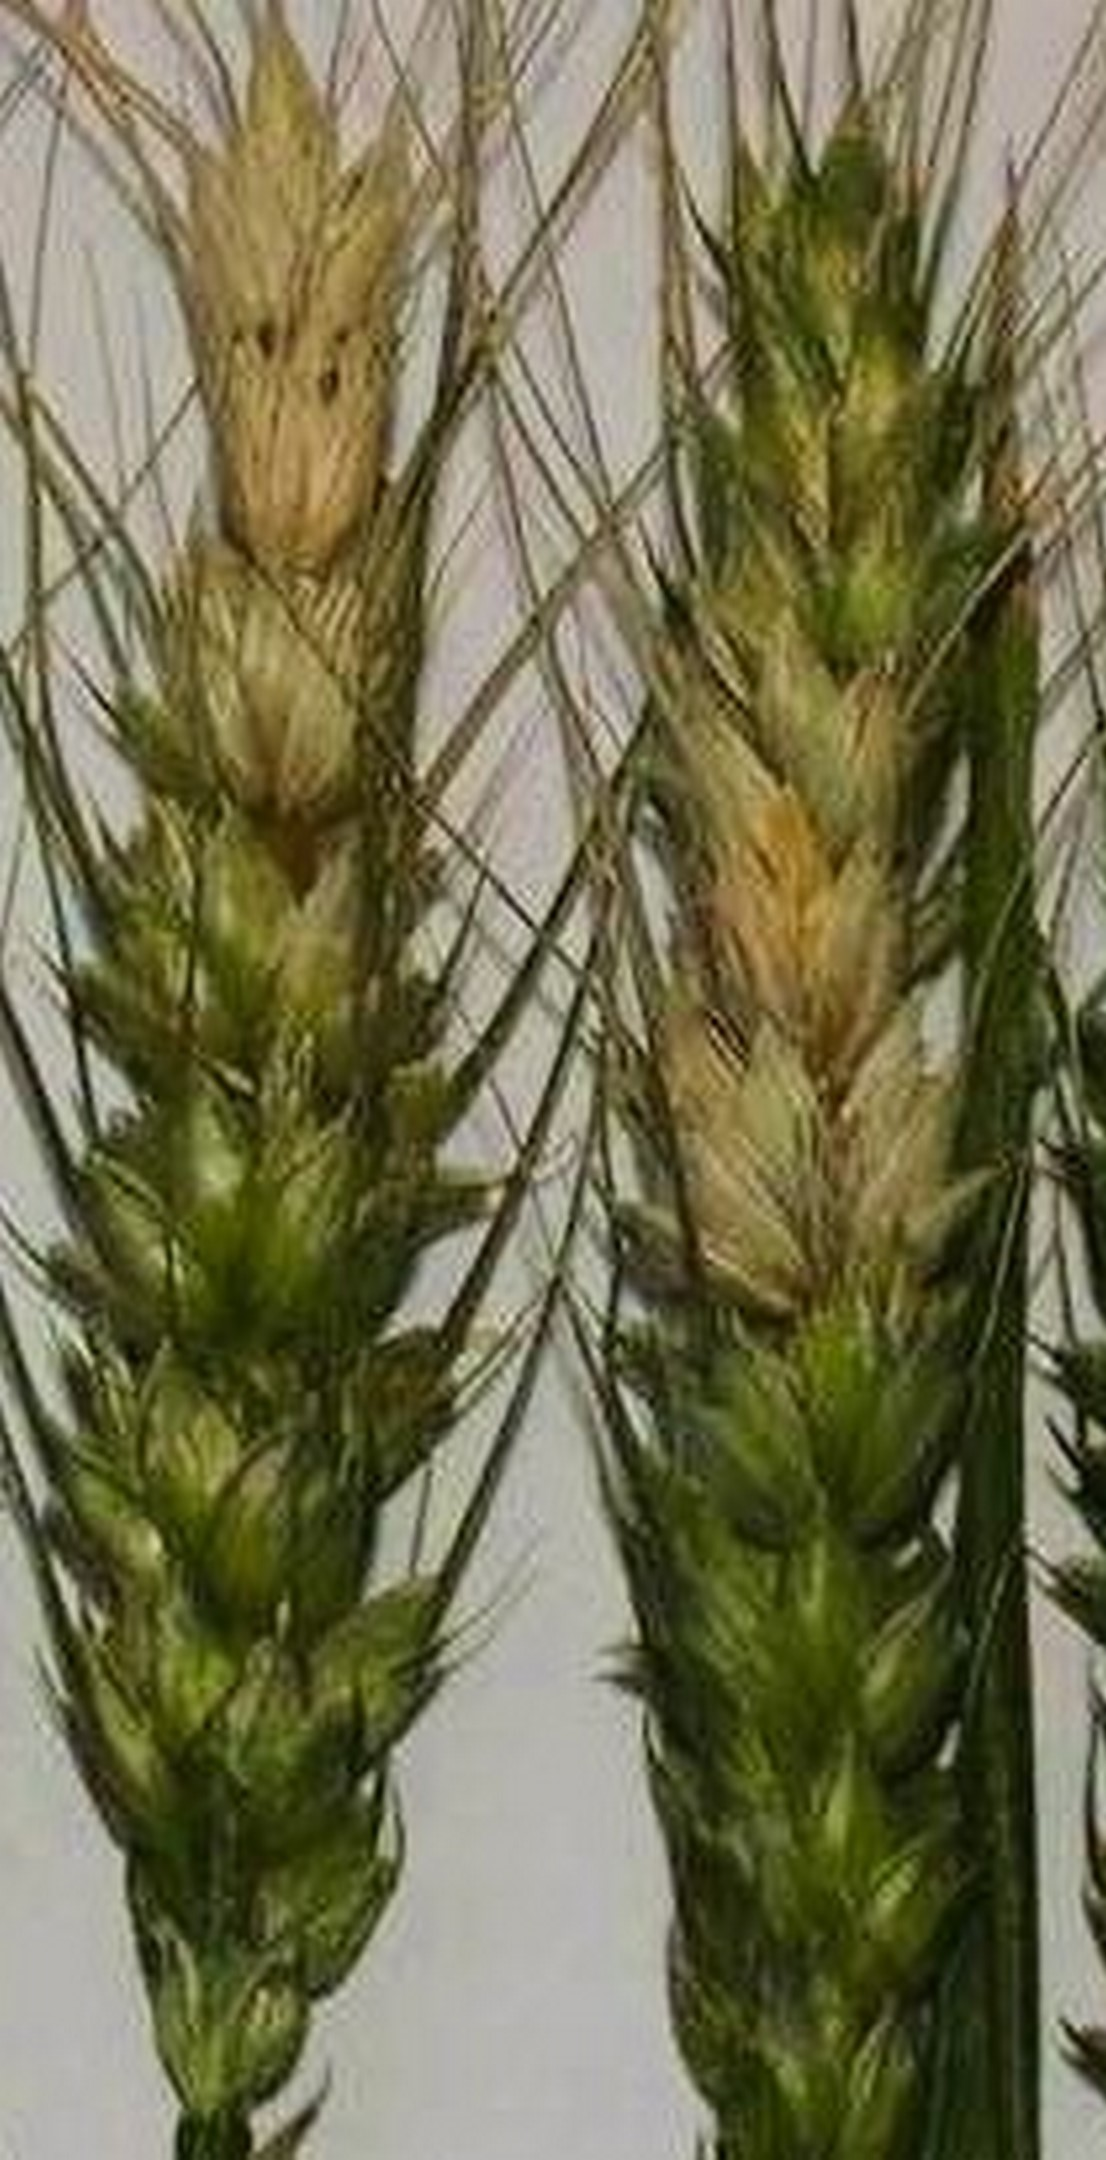Wheat scab: (570, 138, 995, 2133), (32, 70, 451, 2087)
